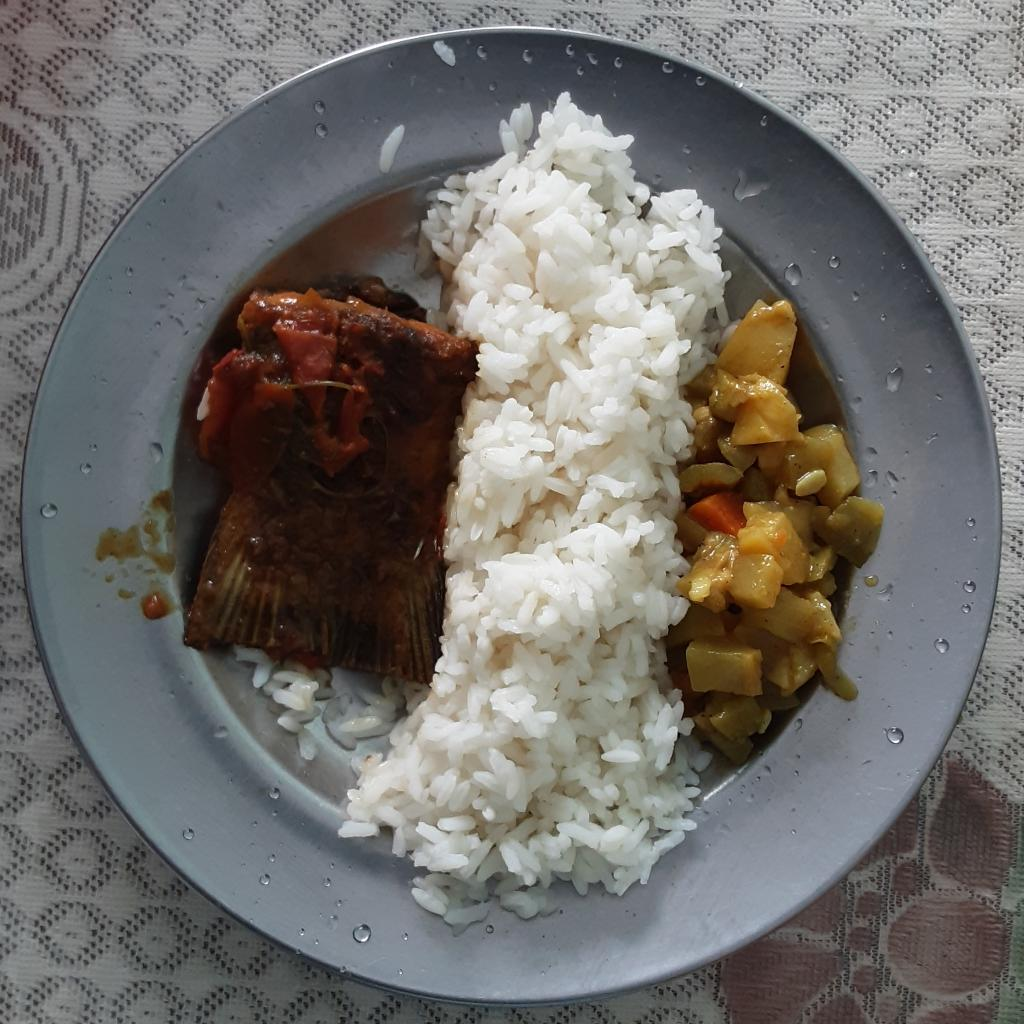fish: (179, 277, 473, 684)
rice: (239, 93, 738, 927)
vegetable: (664, 300, 887, 764)
